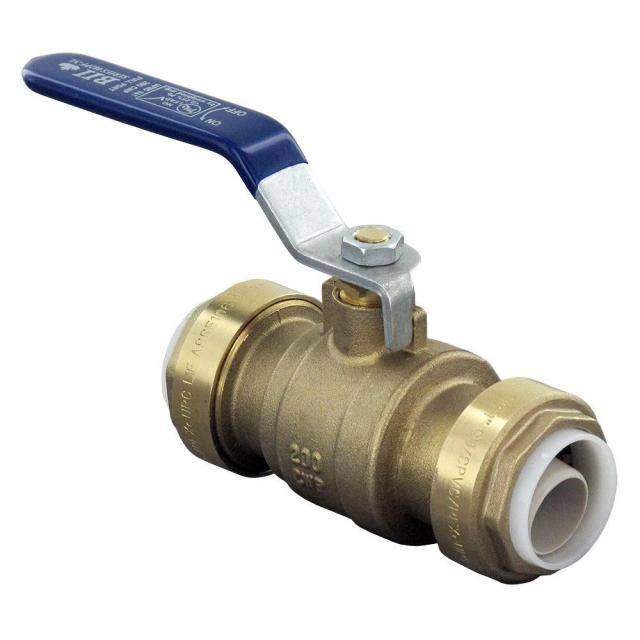opened_valve: (22, 44, 618, 588)
